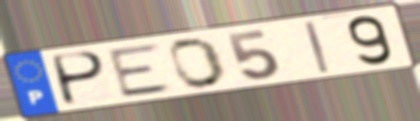5: (224, 27, 282, 82)
9: (345, 14, 395, 67)
E: (105, 41, 176, 100)
I: (301, 19, 333, 75)
O: (167, 36, 229, 90)
P: (51, 50, 109, 108)
